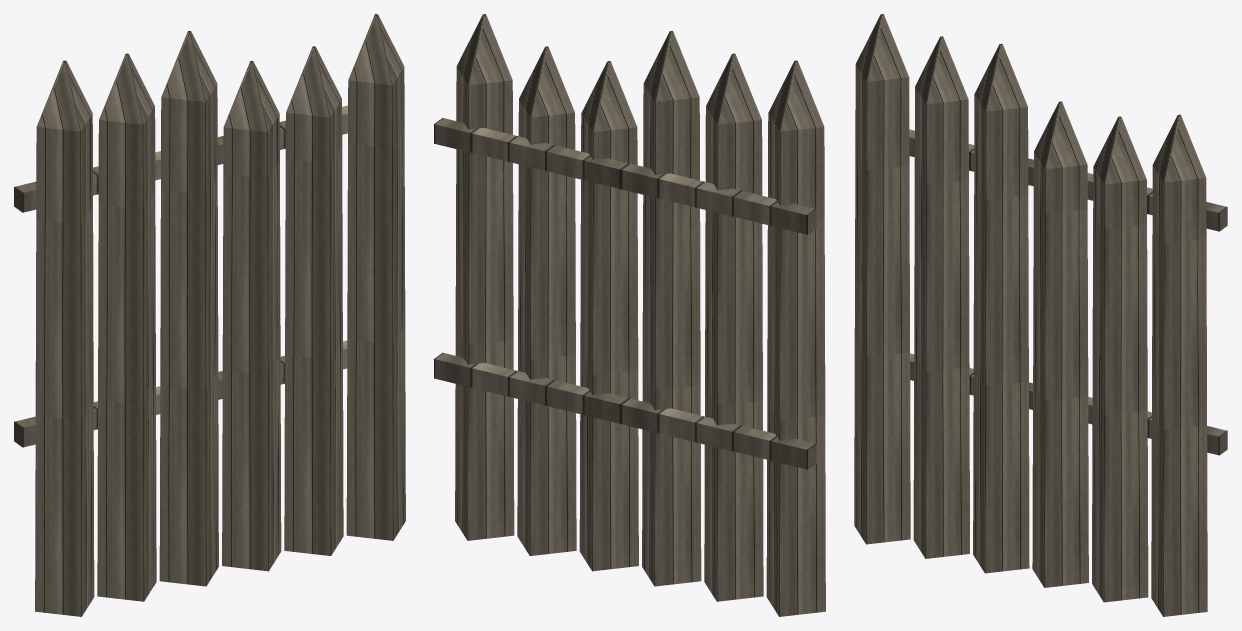
File: Palisade_Stake_1_LOD1.gltf
The picture shows the model from 3 angles, left to right: view 1: azimuth 30°, elevation 25°; view 2: azimuth 150°, elevation 25°; view 3: azimuth 330°, elevation 25°; orthographic projection. The views are drawn at different scales.
Parts seen in each view (by area): view 1: Palisade_Stake_1_LOD1; view 2: Palisade_Stake_1_LOD1; view 3: Palisade_Stake_1_LOD1.
Part boxes in pixels (x1,y1,x2,y2): Palisade_Stake_1_LOD1: (14,14,405,616); Palisade_Stake_1_LOD1: (434,14,825,616); Palisade_Stake_1_LOD1: (854,14,1227,616).
Bounding box in the file's own units: 2 × 2.78 × 0.3383.
1 material, 1 textured.
